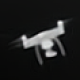plane: (8, 18, 76, 64)
